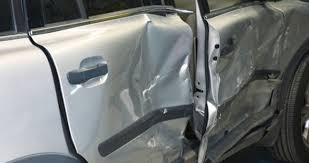Dent: (87, 16, 287, 160)
